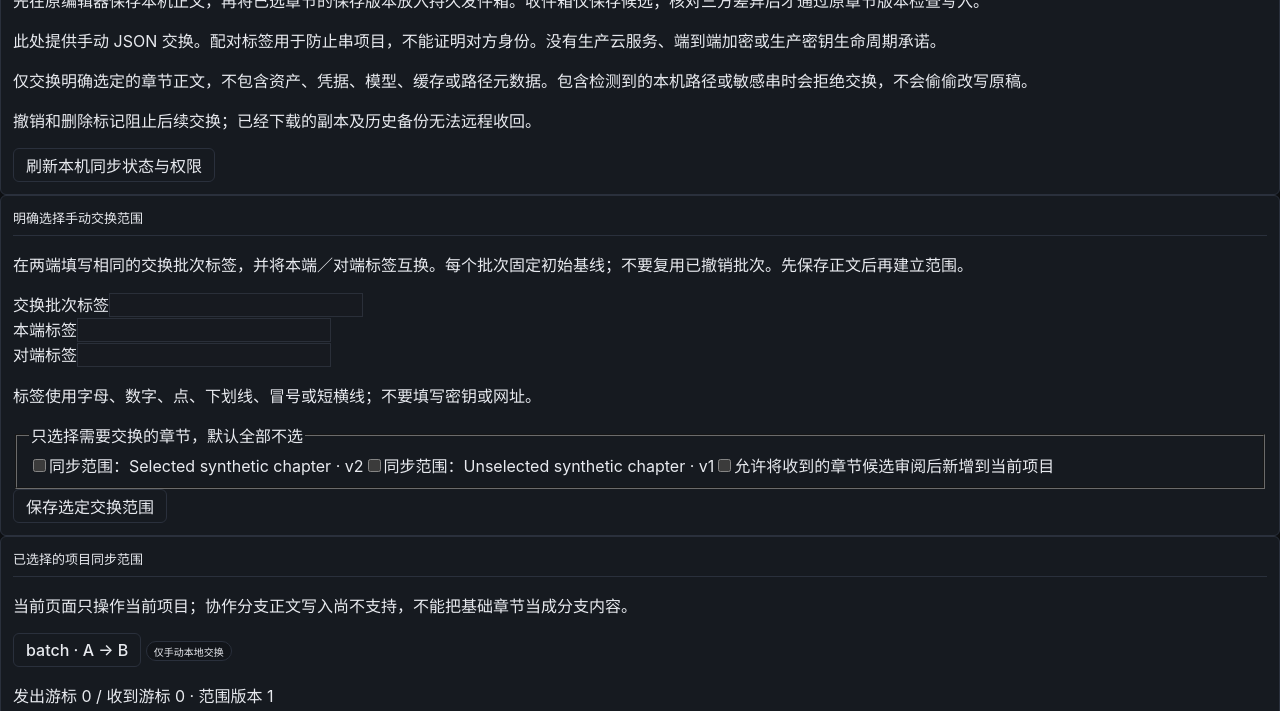
Test: unknown write offers observation/adoption or explicit close, with no automatic retry or apply
Click the button "batch · A → B". click: (77,650)
box: top-left (13, 633), bottom-right (141, 667)
(page scrolled)
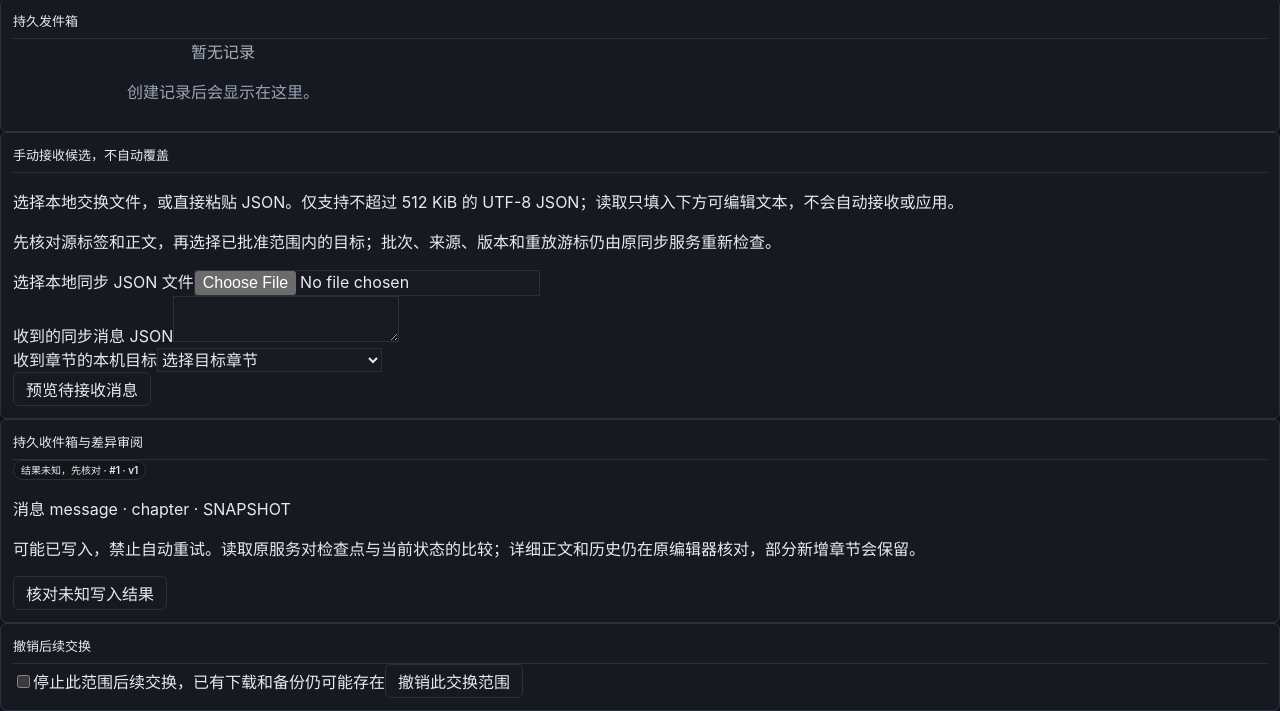
Click the button "核对未知写入结果". click: (90,593)
box: top-left (13, 576), bottom-right (167, 610)
(page scrolled)
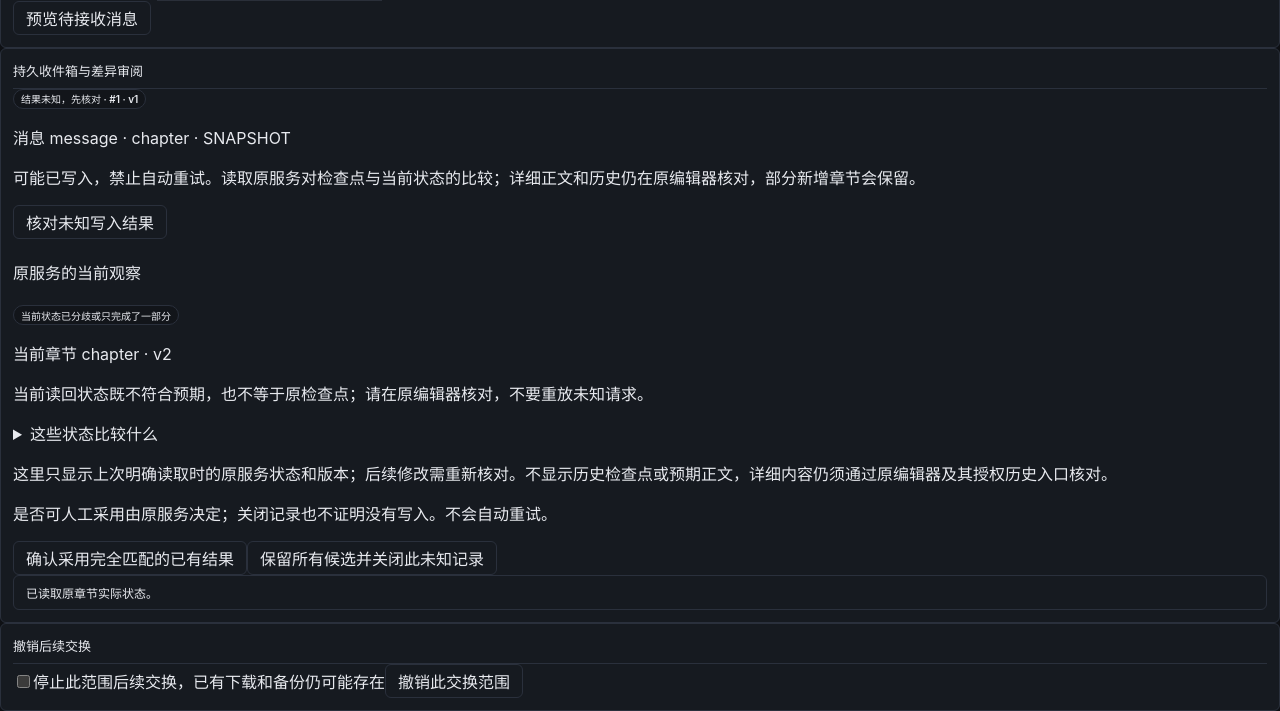
Expected: the button "确认采用完全匹配的已有结果" is disabled, top-left (13, 541), bottom-right (247, 575)
Click the button "保留所有候选并关闭此未知记录". click: (372,558)
box: top-left (247, 541), bottom-right (497, 575)
(page scrolled)
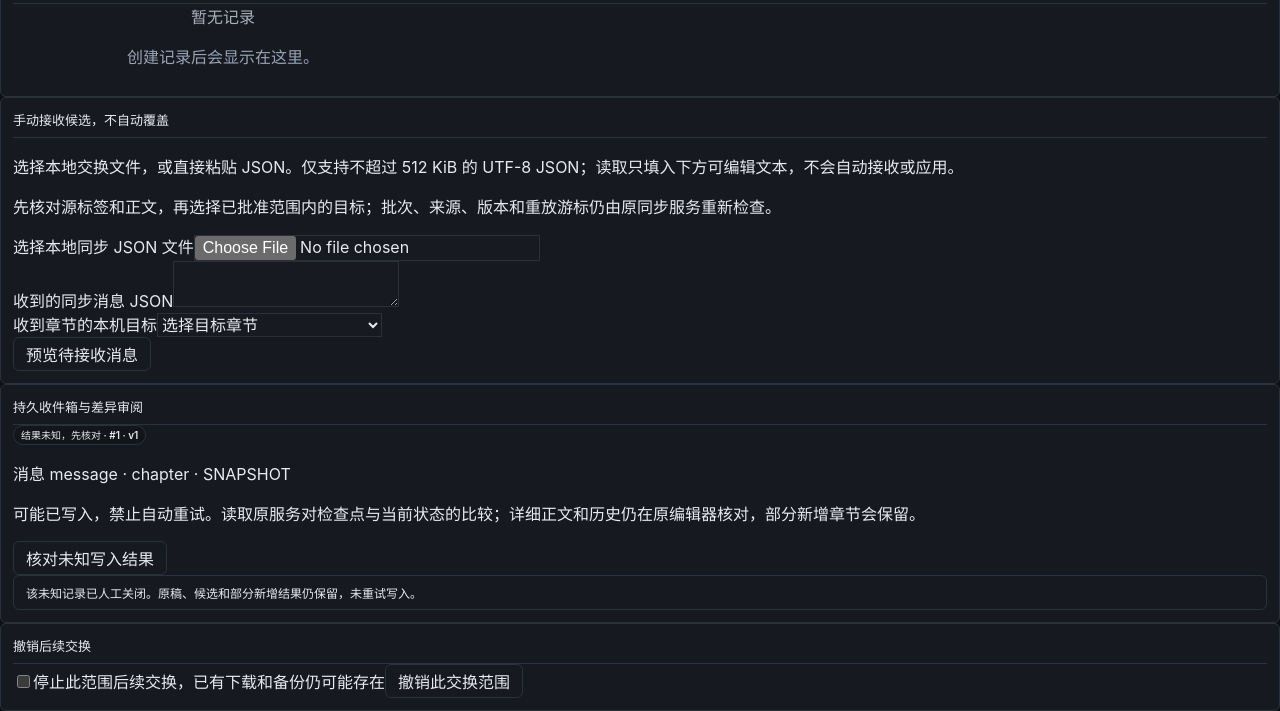
Expected: the text "该未知记录已人工关闭。原稿、候选和部分新增结果仍保留，未重试写入。" is shown, top-left (13, 575), bottom-right (1267, 610)
